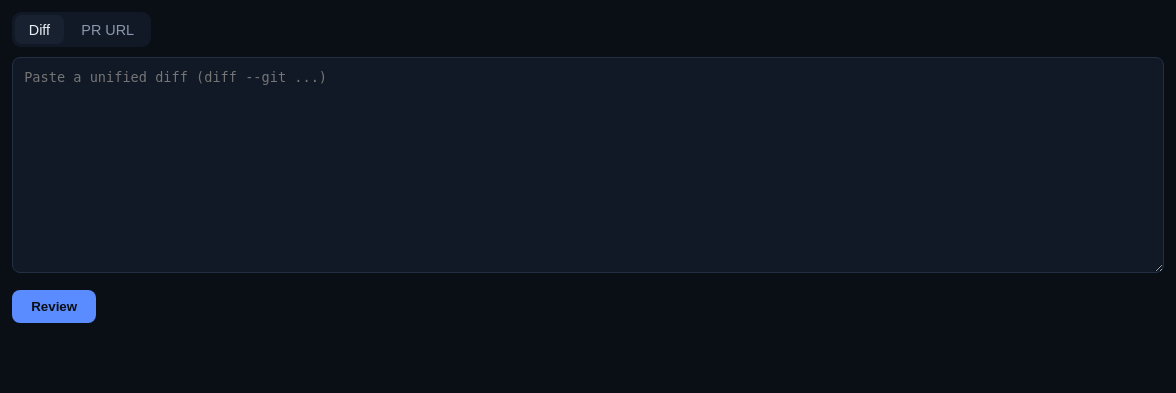
shows an error message when the request fails
Type "d" into the text box labelled "diff" at (588, 165), box 12,57 -> 1164,273
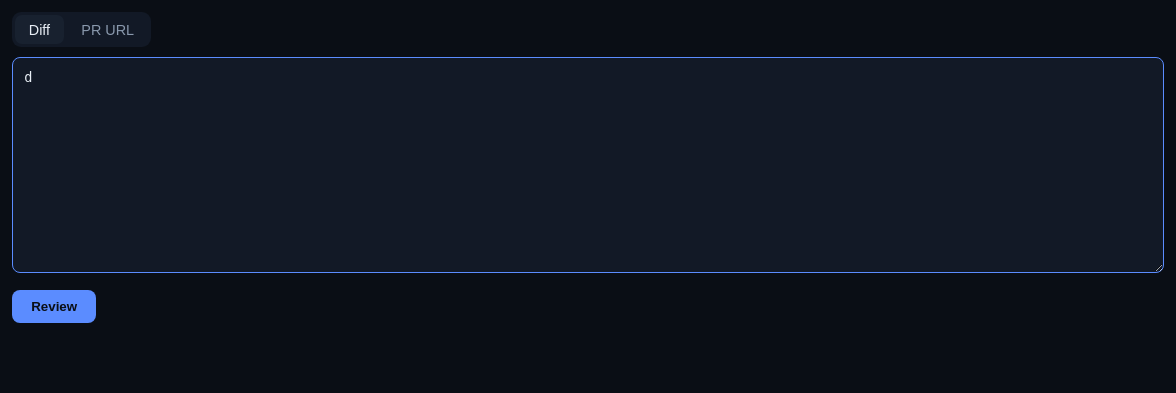
Click the button "Review" at (54, 306), box 12,290 -> 96,323
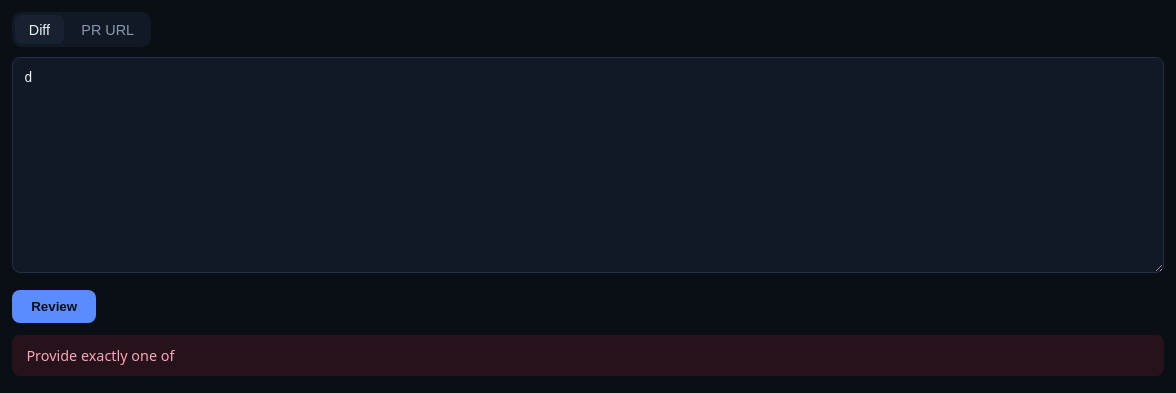
Check: the message reads "Provide exactly one of", box 26,346 -> 174,365
